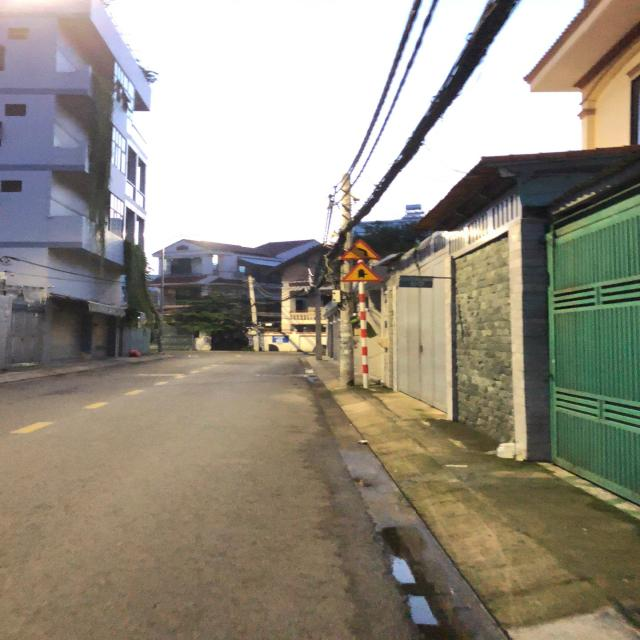Bien bao cho ngoat nguy hiem: (335, 238, 388, 260)
Bien bao giao nhau voi duong khong uu tien: (334, 261, 384, 284)
